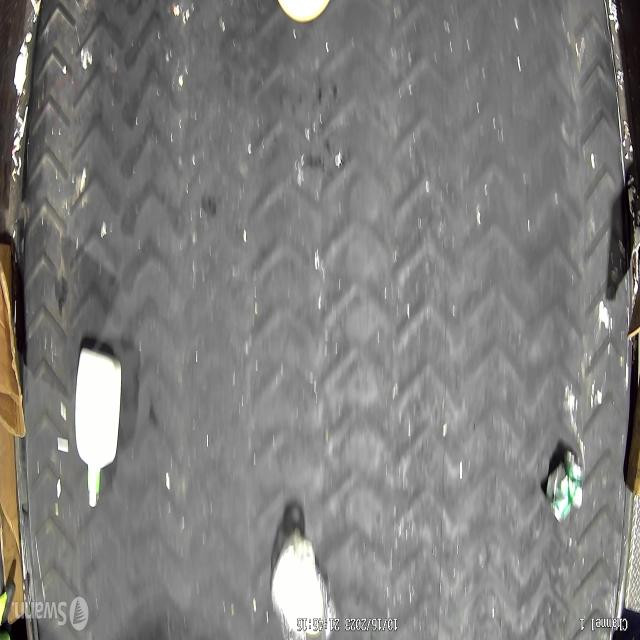can: (544, 449, 584, 523)
